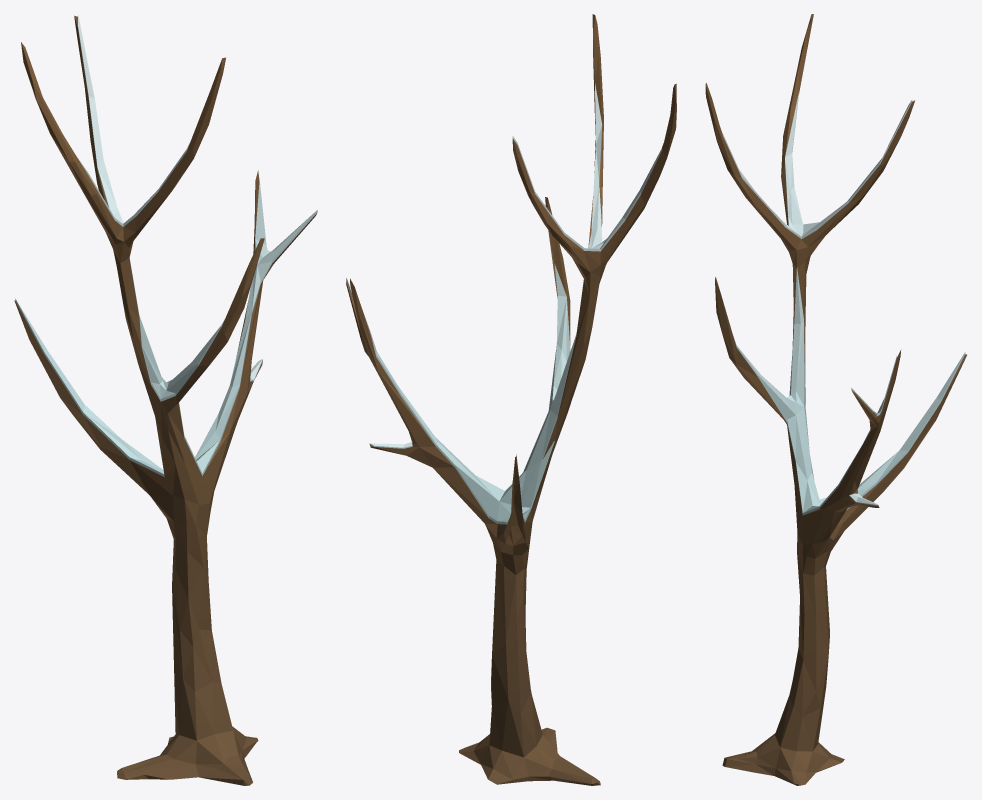
Rendered from Winter_Tree_13.glb.
3 views of the same model, side by side, from view 1: azimuth 30°, elevation 25°; view 2: azimuth 150°, elevation 25°; view 3: azimuth 270°, elevation 25° (orthographic). The views are drawn at different scales.
Visible parts, largest first — view 1: Winter_Tree_13_LOD0; view 2: Winter_Tree_13_LOD0; view 3: Winter_Tree_13_LOD0.
Boxes of the visible parts, x1,y1,x2,y2 form: Winter_Tree_13_LOD0: (14, 14, 317, 785); Winter_Tree_13_LOD0: (346, 14, 676, 785); Winter_Tree_13_LOD0: (705, 14, 966, 785).
Size of what is drawn, in the model's own units: 2.68 by 6.07 by 2.13.
Materials: 1 (1 with a texture image).
